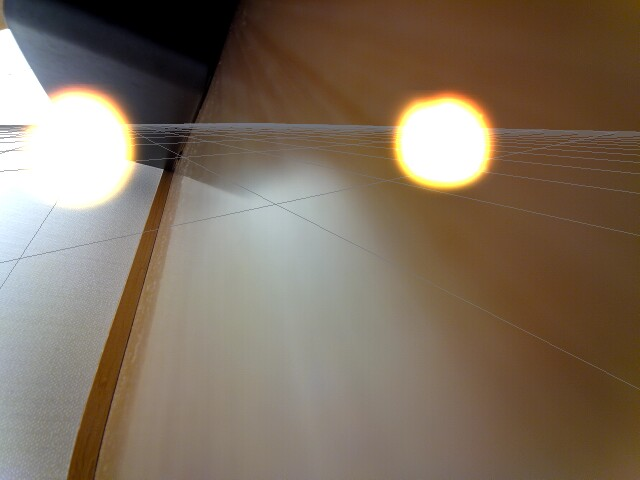firebig: (15, 74, 149, 220)
